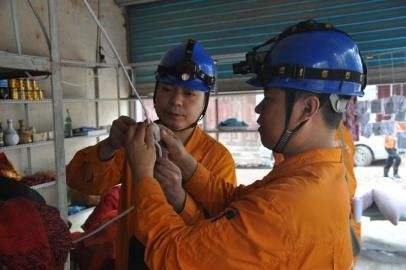blue: (249, 26, 366, 154), (147, 36, 219, 126)
